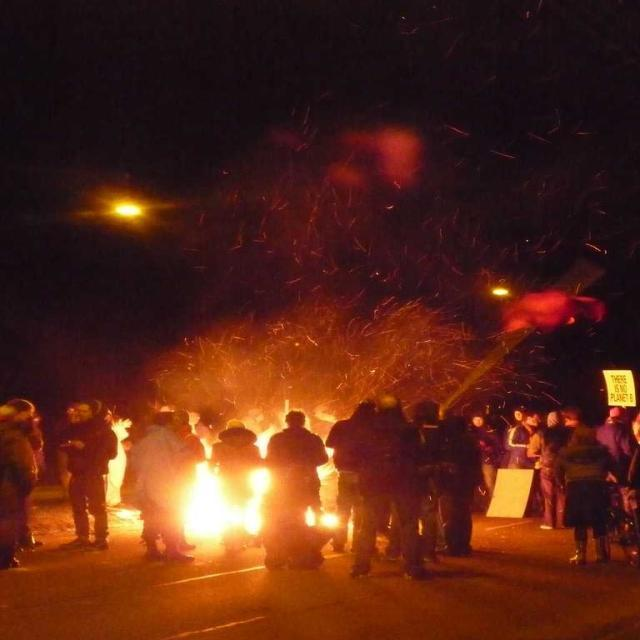Fire: (162, 461, 288, 546)
